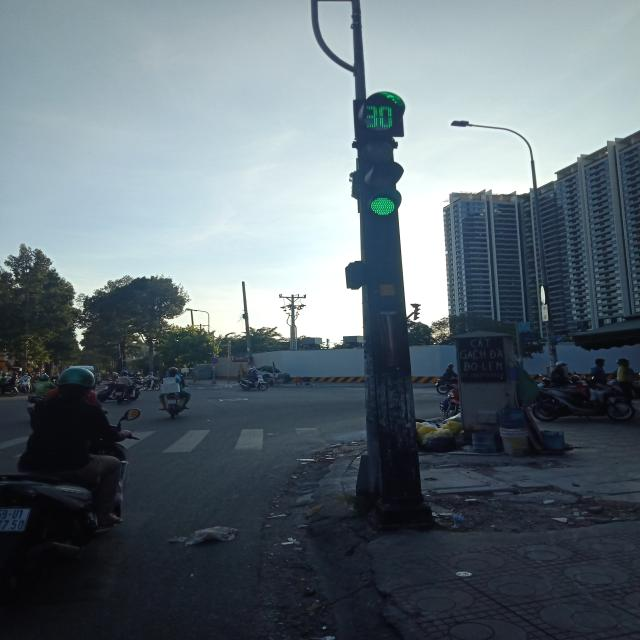Green: (357, 134, 408, 220)
